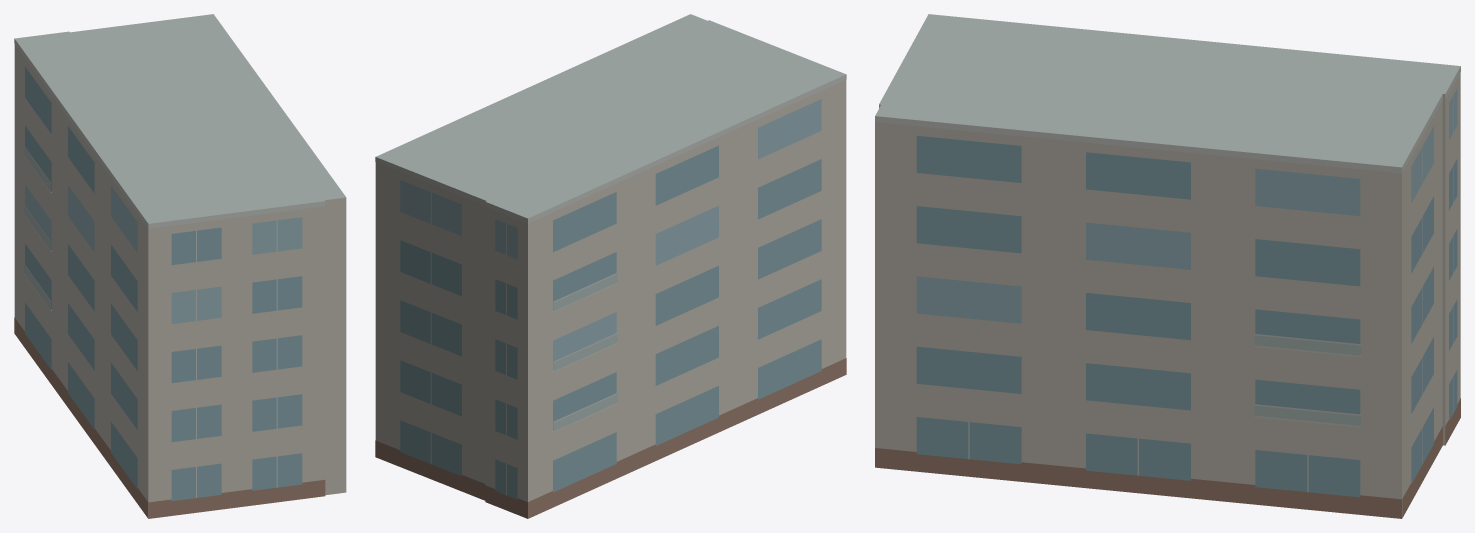
Rendered from survey-upis-33023705.glb.
3 renders of one model, left to right at view 1: azimuth 30°, elevation 25°; view 2: azimuth 150°, elevation 25°; view 3: azimuth 270°, elevation 25°, orthographic. The views are drawn at different scales.
Visible parts, largest first — view 1: survey-upis-33023705.tmp; view 2: survey-upis-33023705.tmp; view 3: survey-upis-33023705.tmp.
Part boxes in pixels (x1,y1,x2,y2): survey-upis-33023705.tmp: (14,14,346,518); survey-upis-33023705.tmp: (375,14,846,518); survey-upis-33023705.tmp: (875,14,1460,518).
Bounding box in the file's own units: 13.3 × 14.2 × 21.45.
